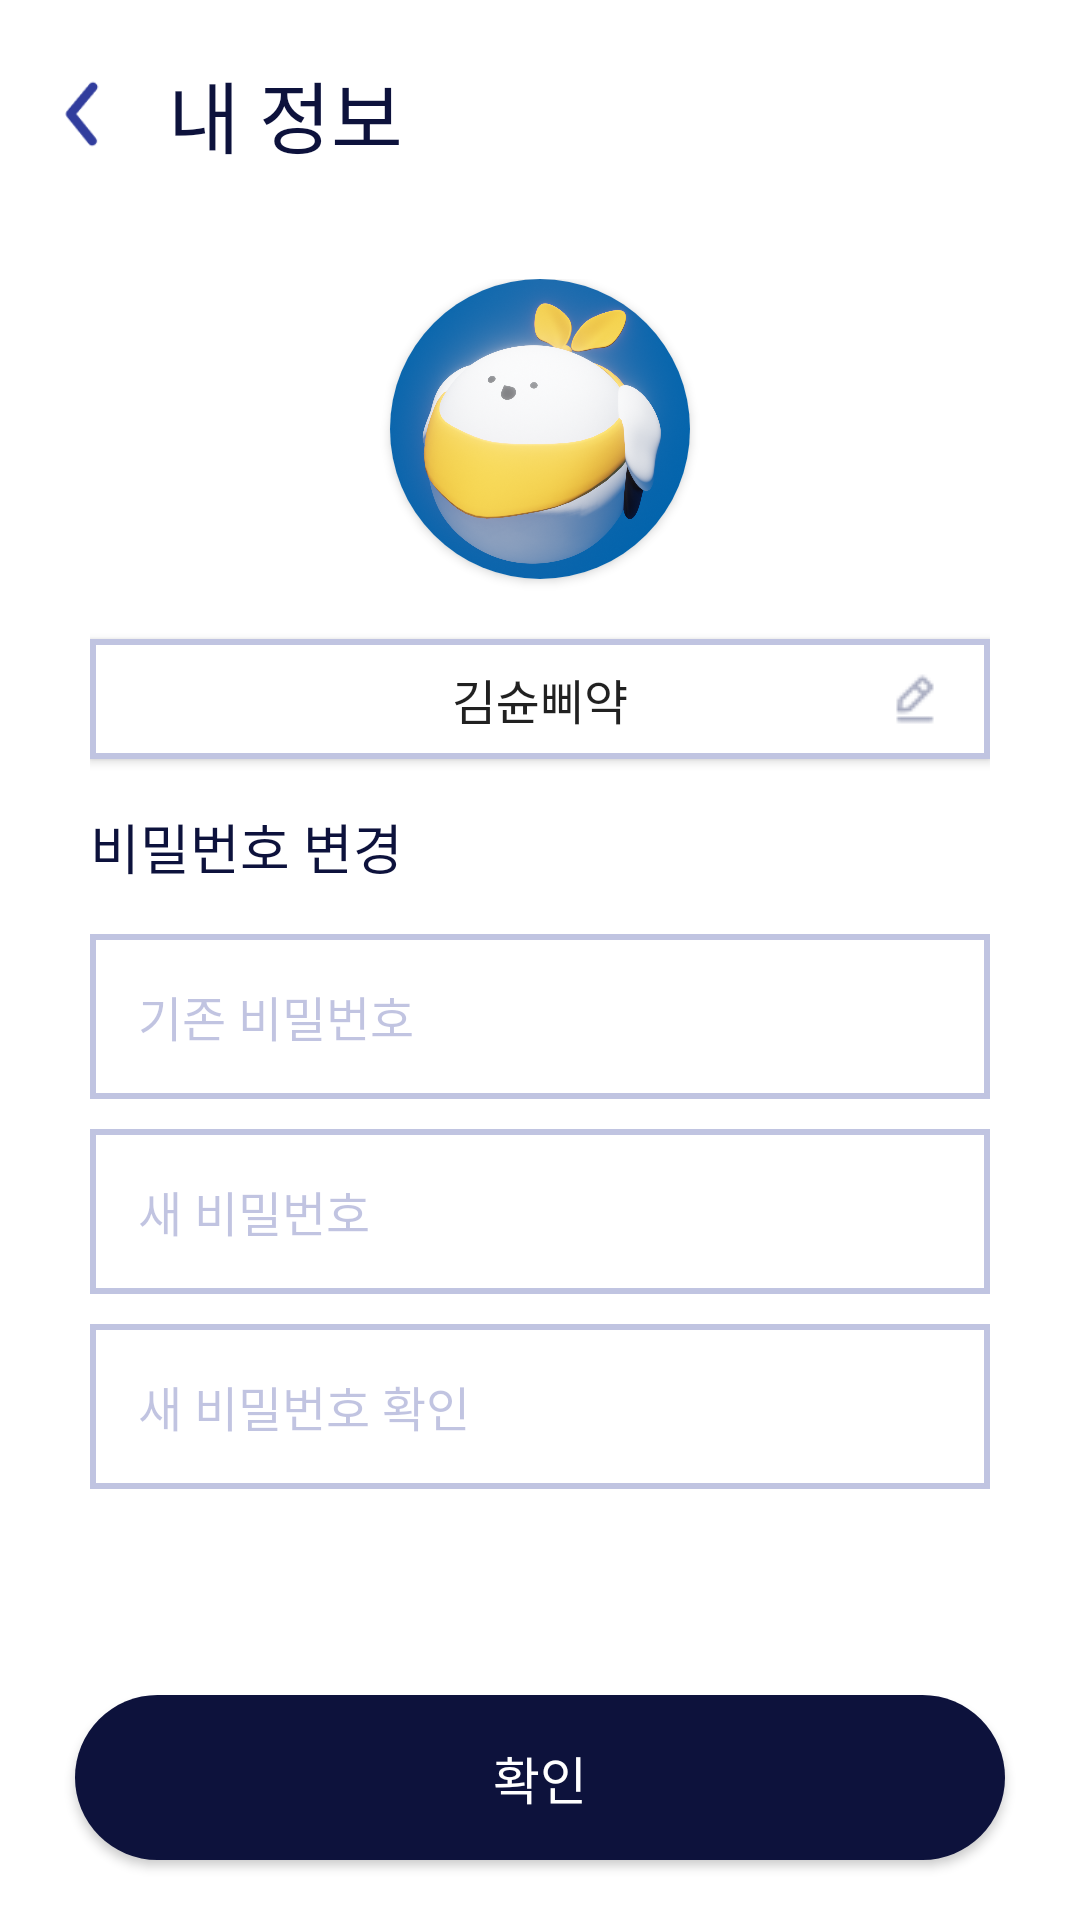

Screen size 1080px×1920px. Icon name, then its center in pixels as point (x, y):
left: point (81, 114)
pencil: point (915, 699)
profile pic: point (540, 429)
